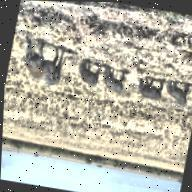boar: (17, 36, 69, 87), (135, 75, 165, 102), (101, 65, 128, 94), (163, 79, 192, 106), (75, 59, 102, 87)
